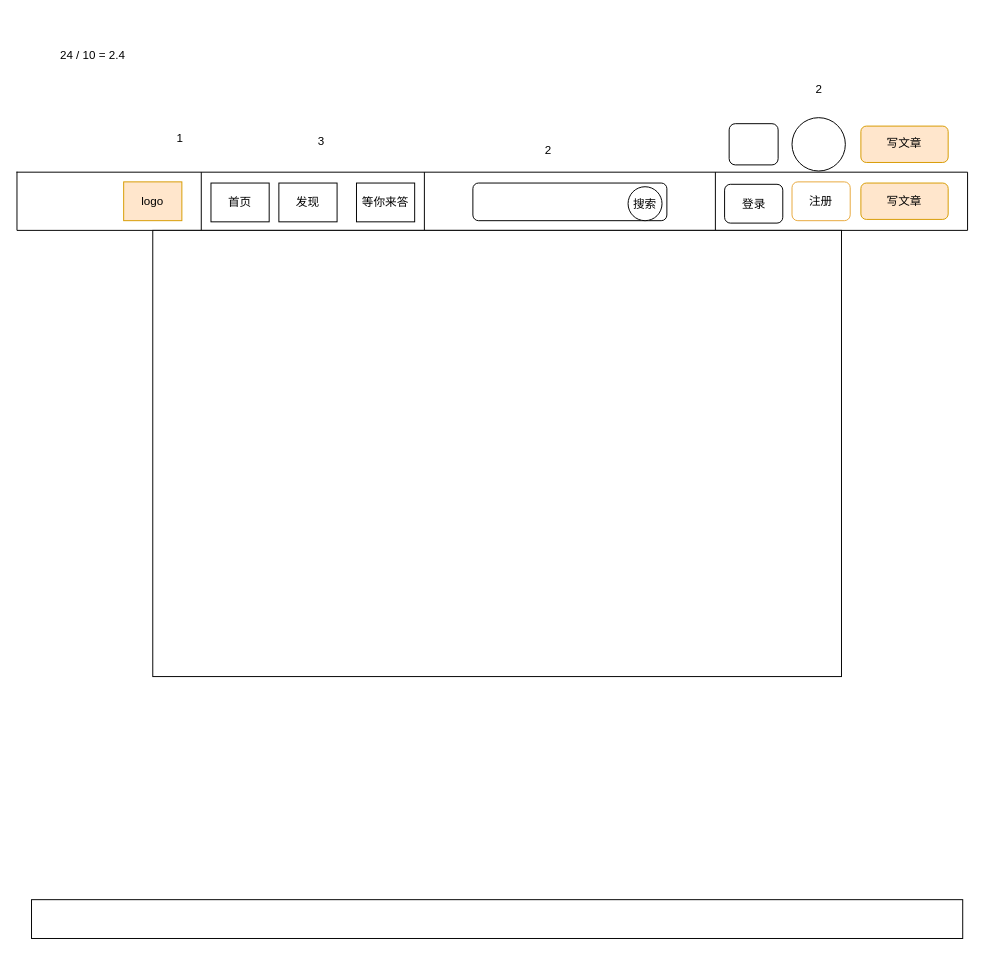
Some shapes in this 985 by 955 pixel diagram are drawn without their labels. Here are the shapes that lost their labels. From the top down, the box of each, then its label:
(728, 123, 778, 165): 消息
(791, 117, 845, 171): 我的
(472, 182, 667, 221): 搜索框
(31, 899, 963, 938): sfsdfsadfsadfsadfasdfd
